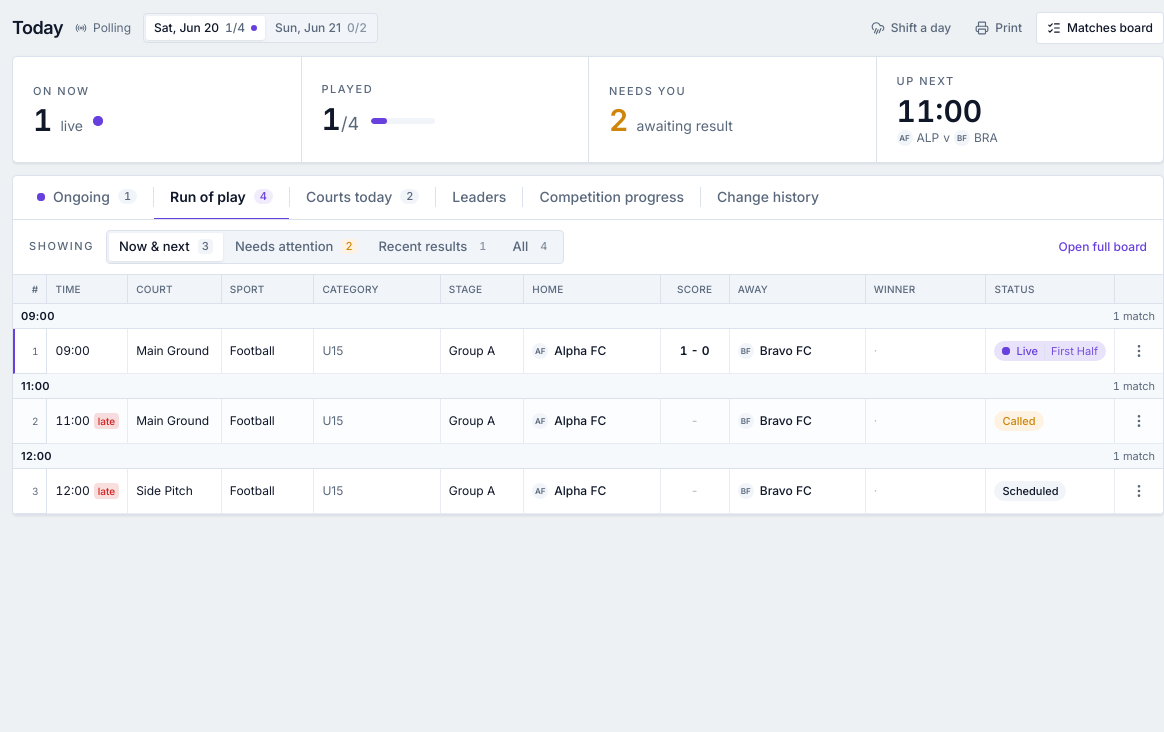
ControlRoomPage › the Ongoing tab shows only what is being played right now
Click the tab with test id "board-tab-live" at (87,198), box [21,176,153,220]
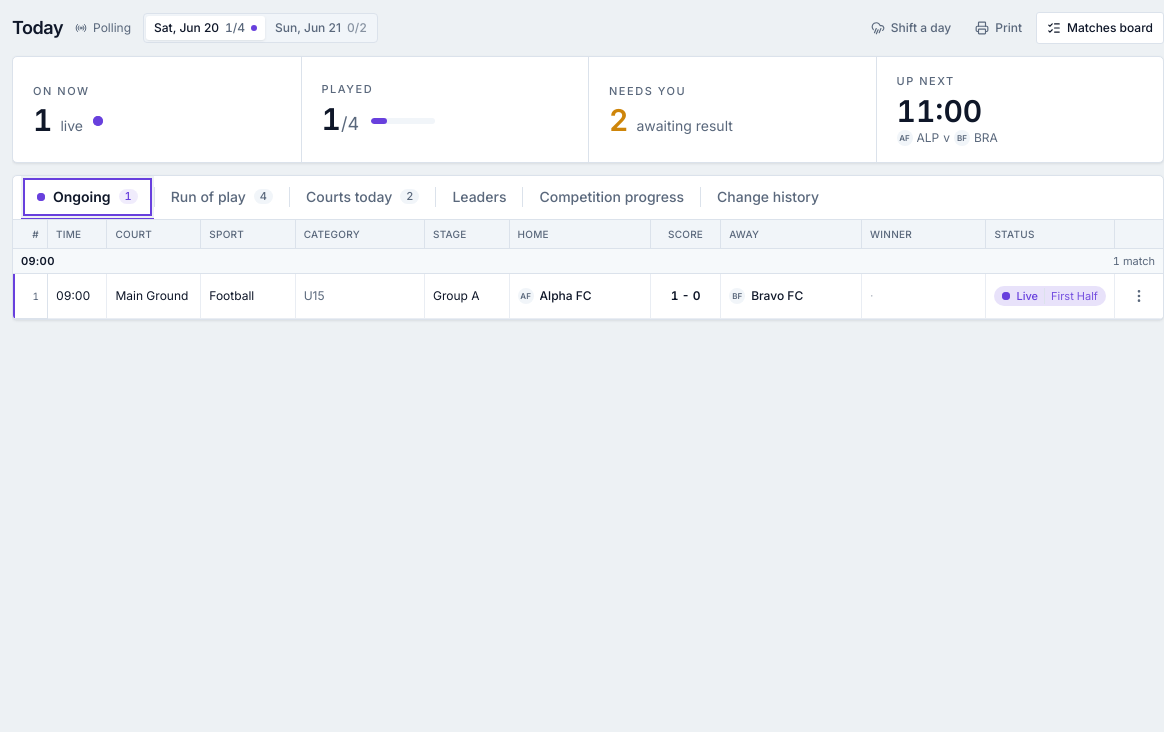
Expected: the row with test id "tile-m1" is shown, [13,274,1163,318]
Expected: the row with test id "tile-m2" is gone
